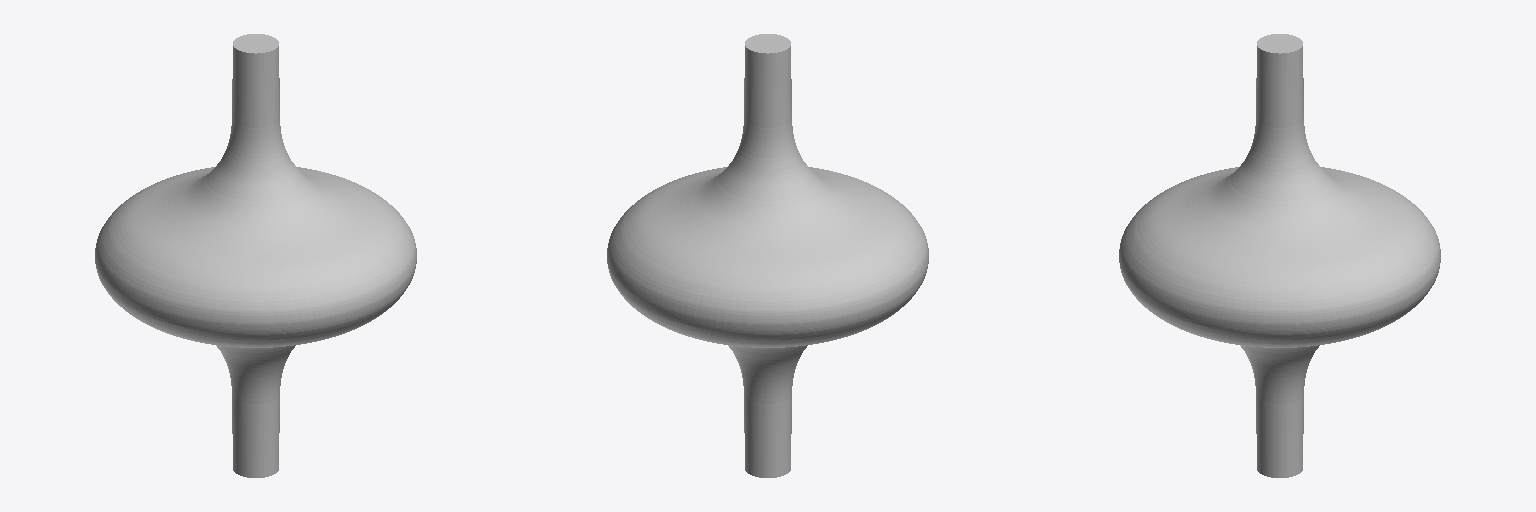
Rendered from drop05.obj.
3 renders of one model, left to right at view 1: azimuth 30°, elevation 25°; view 2: azimuth 150°, elevation 25°; view 3: azimuth 270°, elevation 25°, orthographic.
Visible parts, largest first — view 1: 190708_Ether_100type_drop5; view 2: 190708_Ether_100type_drop5; view 3: 190708_Ether_100type_drop5.
Part boxes in pixels (bbox=[...]): 190708_Ether_100type_drop5: bbox=[95, 34, 416, 477]; 190708_Ether_100type_drop5: bbox=[607, 34, 928, 477]; 190708_Ether_100type_drop5: bbox=[1119, 34, 1440, 477].
Size of the model in its own units: 0.6876 by 1 by 0.6876.